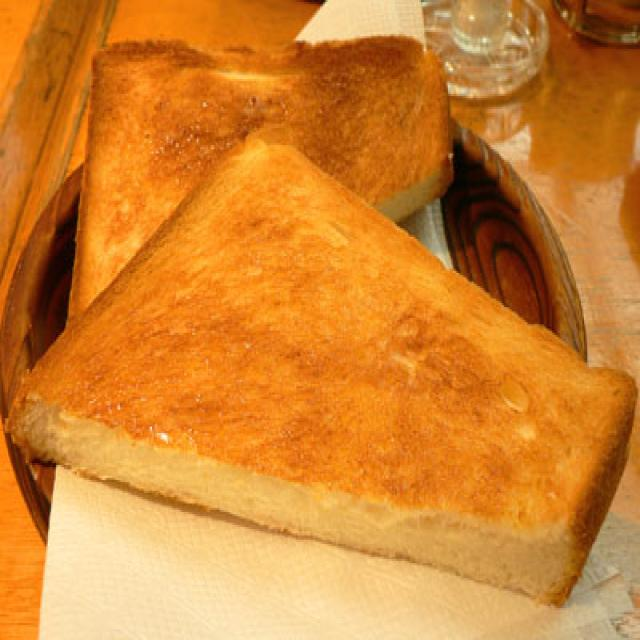面包点心: (21, 22, 622, 600)
